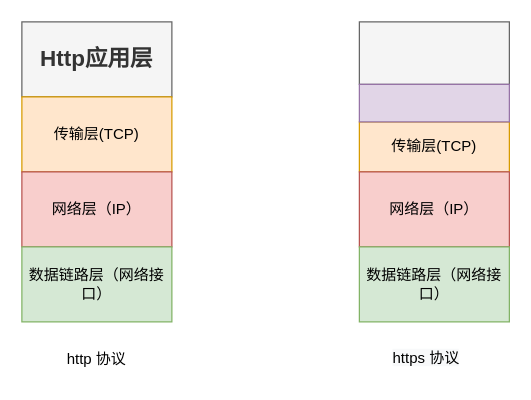
Some shapes in this 531 by 400 pixel diagram are drawn without their labels. Each missing label, with the centre of its shape:
Https应用层: pixel 433 52
安全层（TSL/SSL）: pixel 433 102
